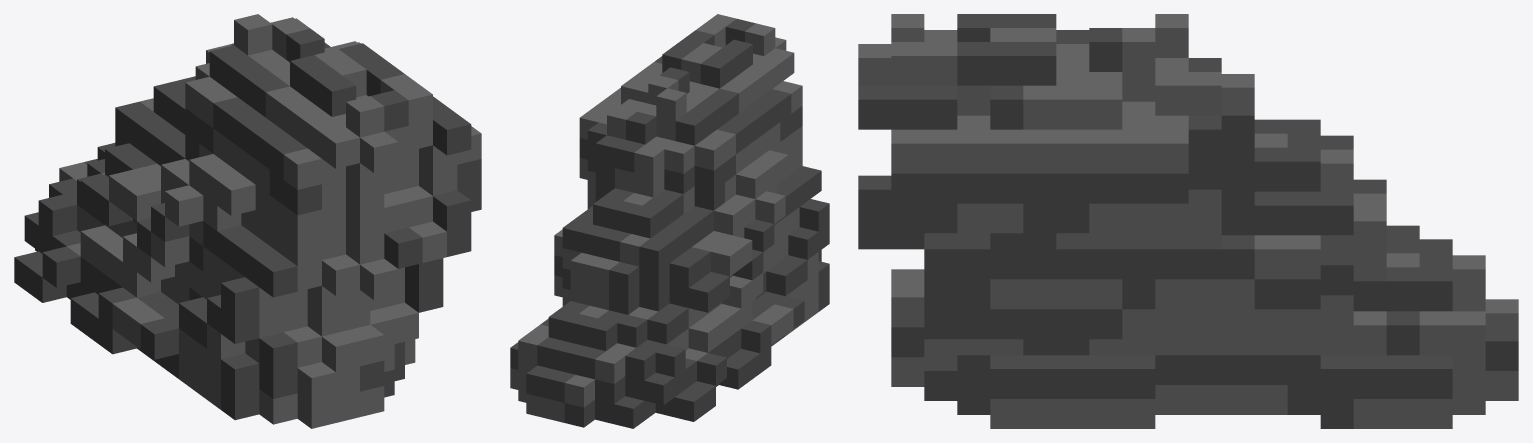
Rendered from Medieval Assets-176-Shelter - Wooden - Stone Side.obj.
3 renders of one model, left to right at view 1: azimuth 30°, elevation 25°; view 2: azimuth 150°, elevation 25°; view 3: azimuth 270°, elevation 25°, orthographic. The views are drawn at different scales.
Parts seen in each view (by area): view 1: Shelter - Wooden - Stone Side; view 2: Shelter - Wooden - Stone Side; view 3: Shelter - Wooden - Stone Side.
Part boxes in pixels (x1=…): Shelter - Wooden - Stone Side: x1=14, y1=14, x2=481, y2=428; Shelter - Wooden - Stone Side: x1=510, y1=14, x2=829, y2=428; Shelter - Wooden - Stone Side: x1=858, y1=14, x2=1518, y2=428.
Bounding box in the file's own units: 1 × 1.2 × 2.
1 material, 1 textured.
